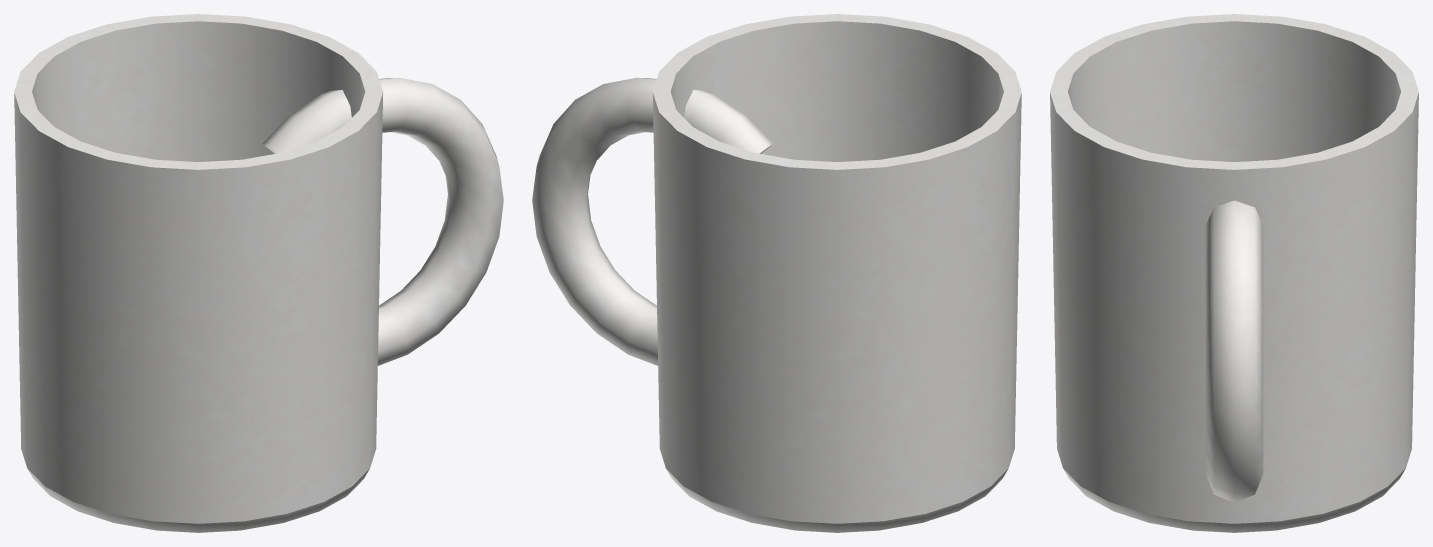
File: mug.glb
3 renders of one model, left to right at view 1: azimuth 30°, elevation 25°; view 2: azimuth 150°, elevation 25°; view 3: azimuth 270°, elevation 25°, orthographic.
Visible parts, largest first — view 1: Mug_Body, Mug_Handle; view 2: Mug_Body, Mug_Handle; view 3: Mug_Body, Mug_Handle.
Boxes of the visible parts, left/top/right/bottom form: Mug_Body: left=14, top=14, right=383, bottom=532; Mug_Handle: left=262, top=77, right=503, bottom=365; Mug_Body: left=652, top=14, right=1021, bottom=532; Mug_Handle: left=532, top=77, right=773, bottom=365; Mug_Body: left=1050, top=14, right=1418, bottom=532; Mug_Handle: left=1205, top=200, right=1263, bottom=502.
Bounding box in the file's own units: 0.12 × 0.0947 × 0.083.
1 material, 1 textured.
